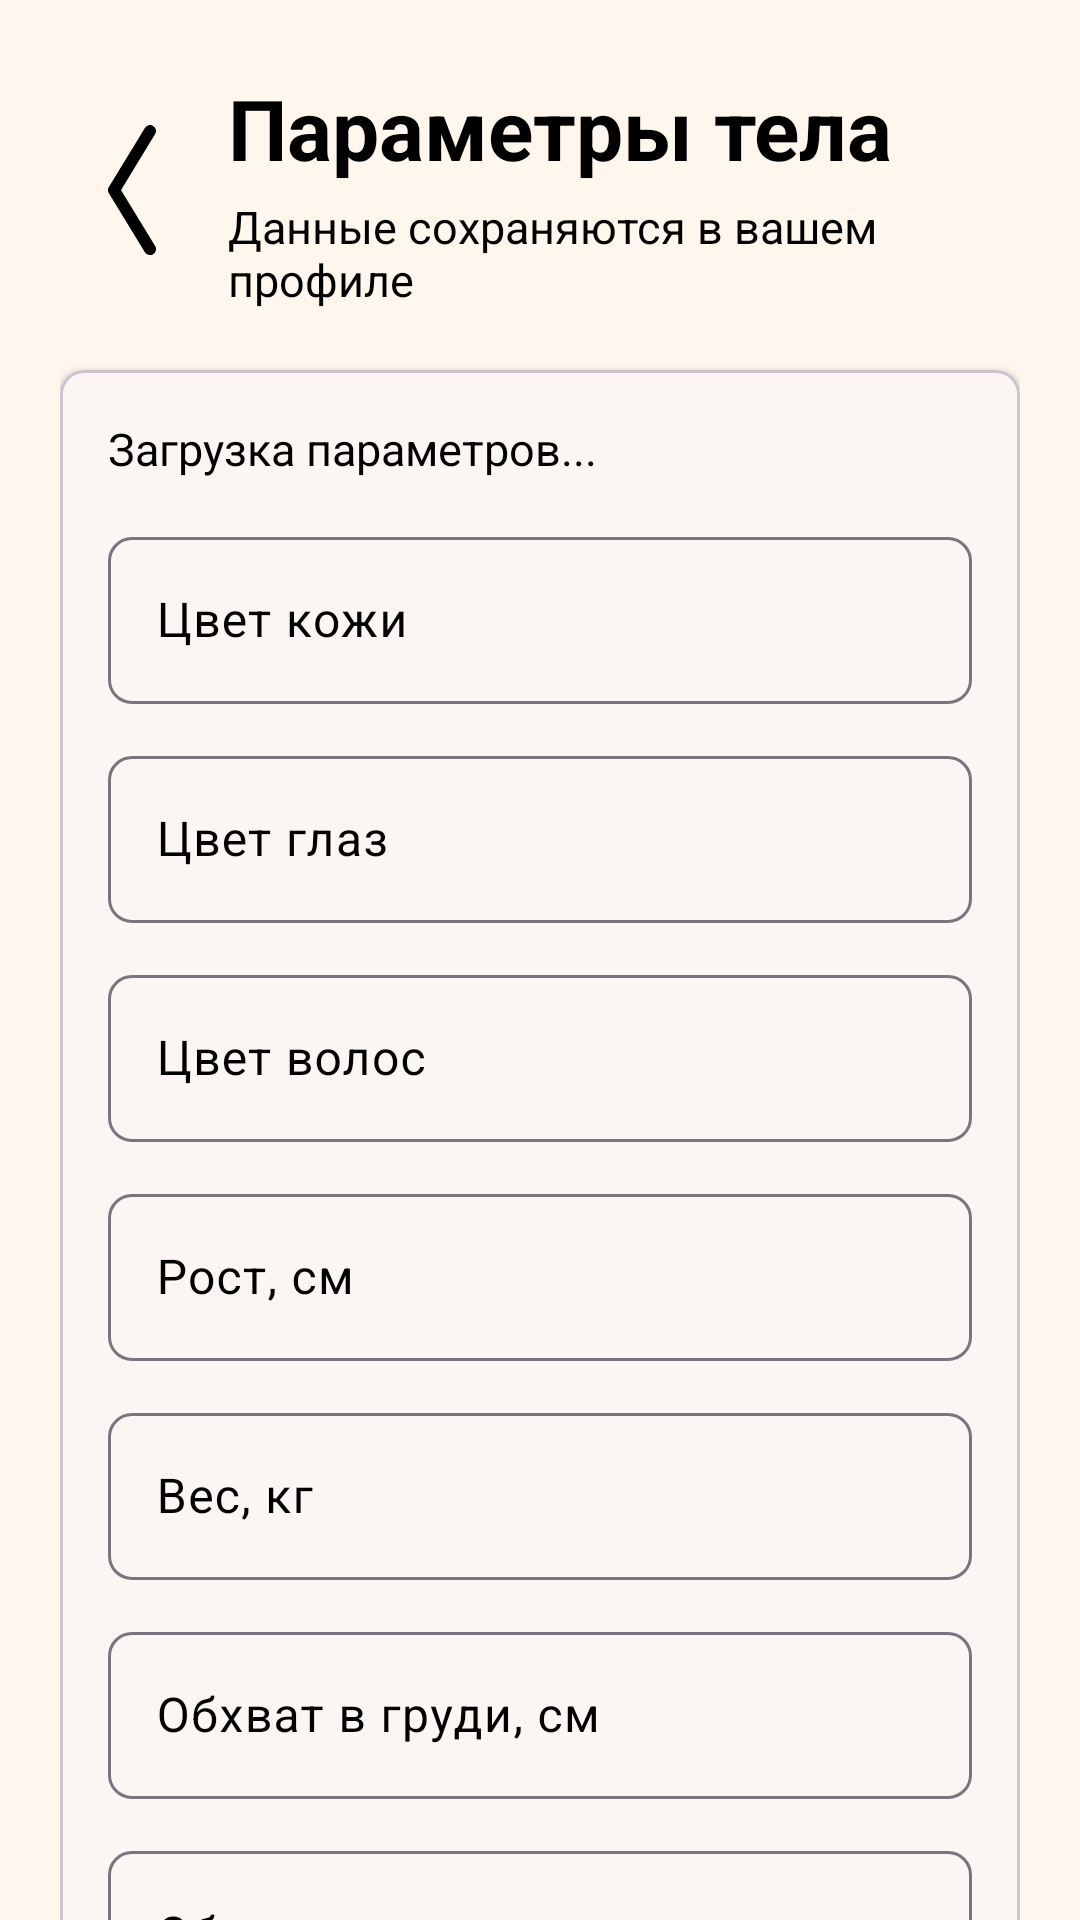

Icons on this 1080px x 1920px Android screen, each with its box as (x1, y1, x2, y2):
Назад: (108, 125, 156, 255)
